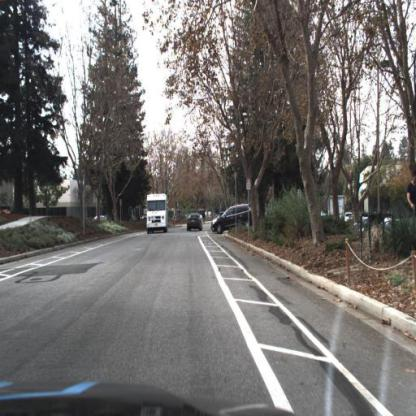car: (211, 203, 253, 236), (187, 213, 203, 234)
pedestrian: (408, 169, 416, 253)
truck: (146, 192, 170, 233)
